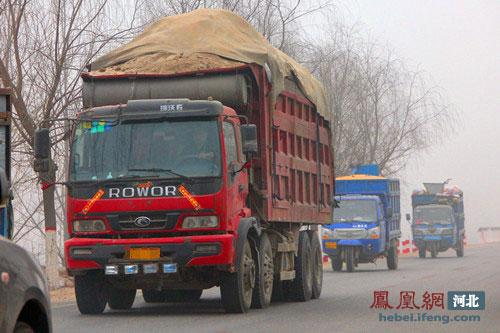chaozhai: (61, 8, 333, 318)
